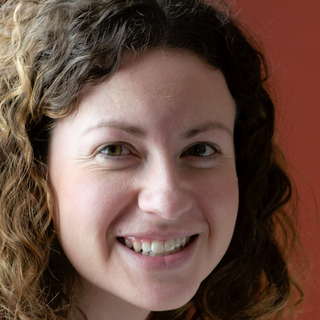eye: (88, 138, 140, 164), (179, 138, 223, 165)
